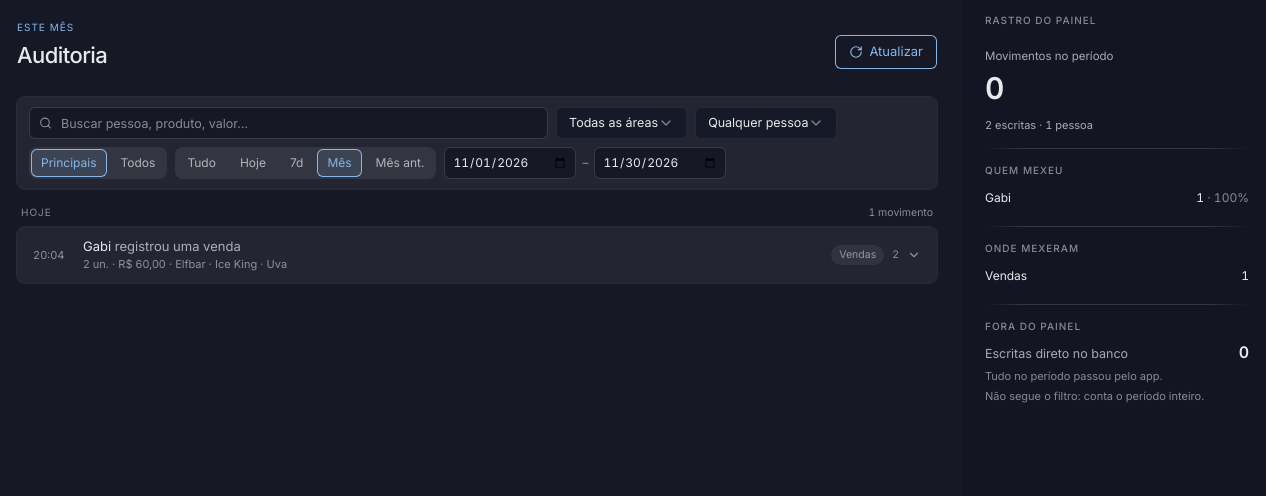
Test: tela de auditoria › guarda o estoque dentro do detalhe, com o valor de antes
Check: the text "estoque" is not shown
Click the button that starts with "Gabi". click: click(49, 254)
box: [17,227,937,283]
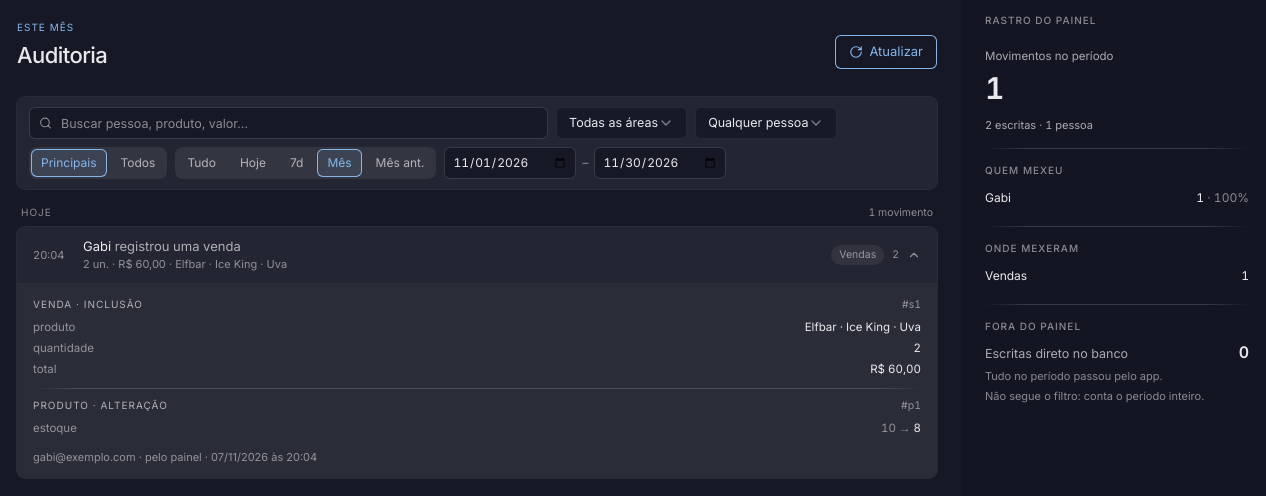
Check: the text "estoque" reads "estoque 10 → 8", box [33,420,921,437]
